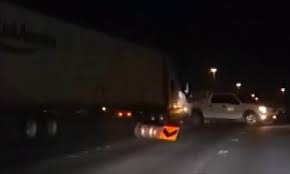barrel: (135, 122, 159, 139)
